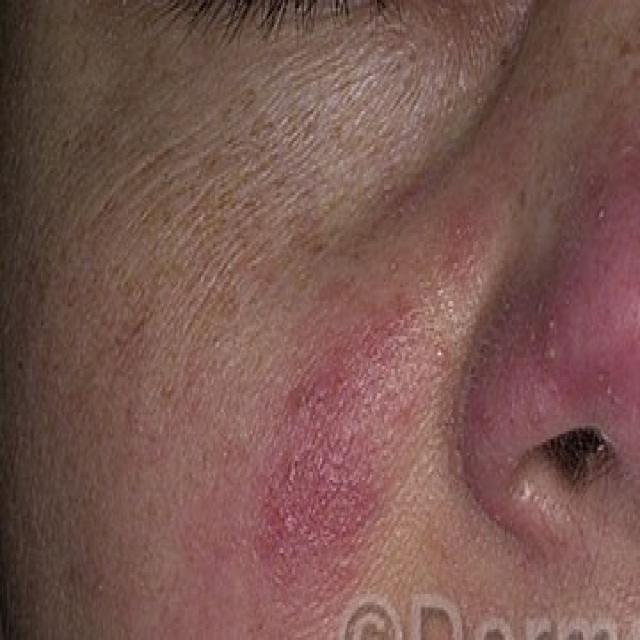Rosacea: (266, 295, 434, 570)
